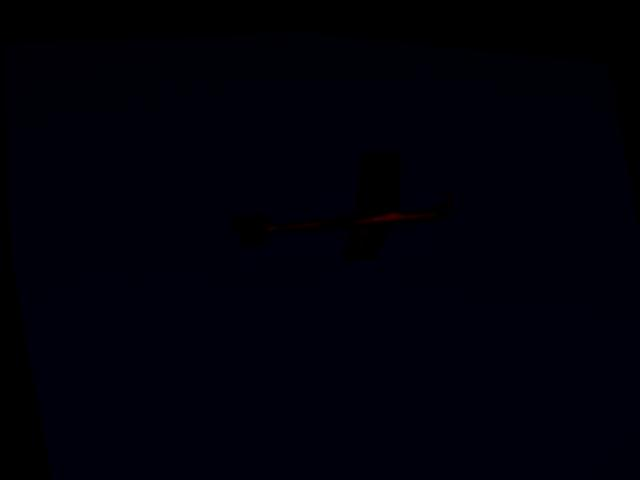iha: (213, 121, 465, 283)
